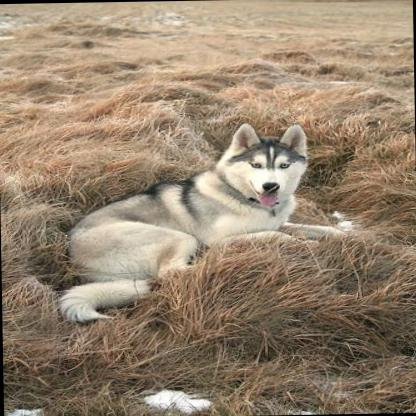Siberian_husky: (48, 119, 346, 323)
